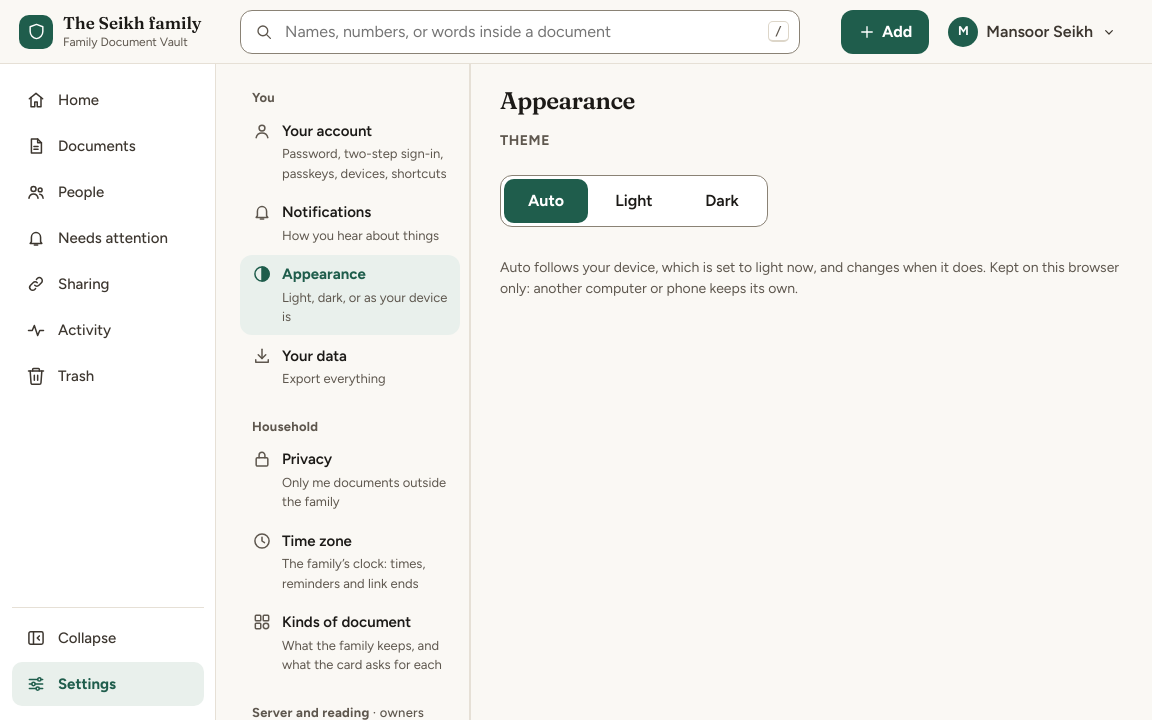
Scenario: the name menu’s quick switch › and Settings → Appearance says the same choice
The width and height of the screenshot is (1152, 720).
Expected: the heading "Appearance" is shown, [500,86,635,115]
Click the button with aria-label "Your account: Mansoor Seikh".
click(1035, 32)  # box [941,10,1128,54]
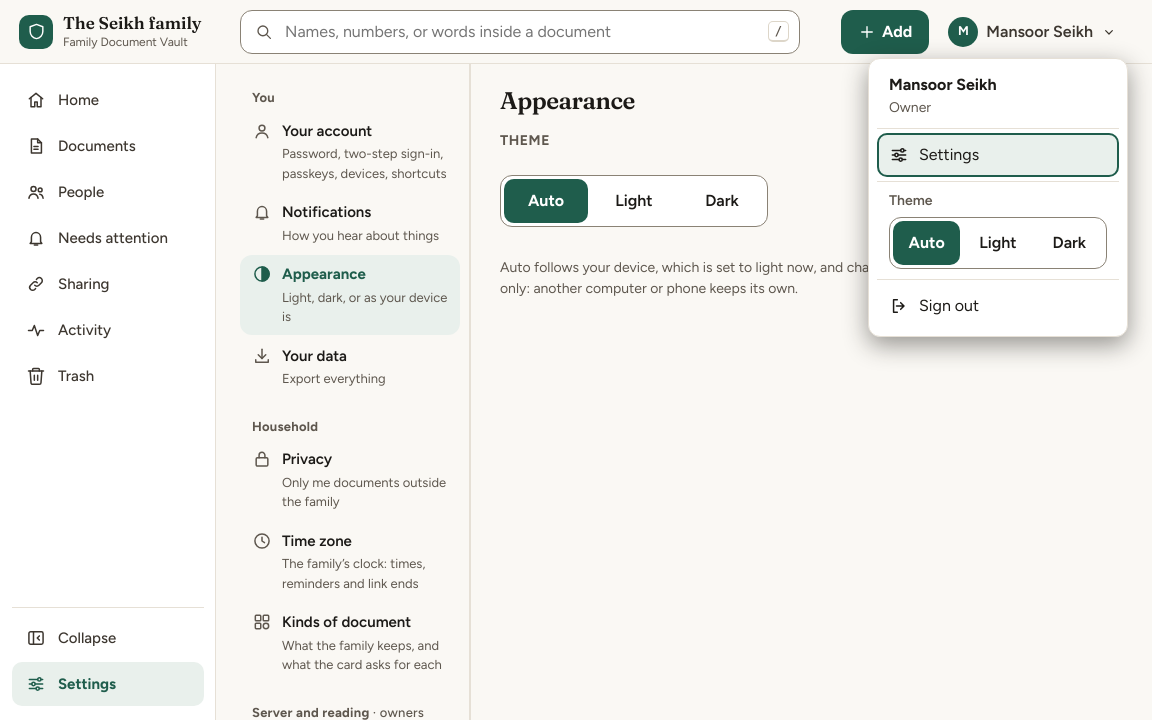
Click the menu item "Dark".
click(1069, 242)  # box [1036,220,1103,264]
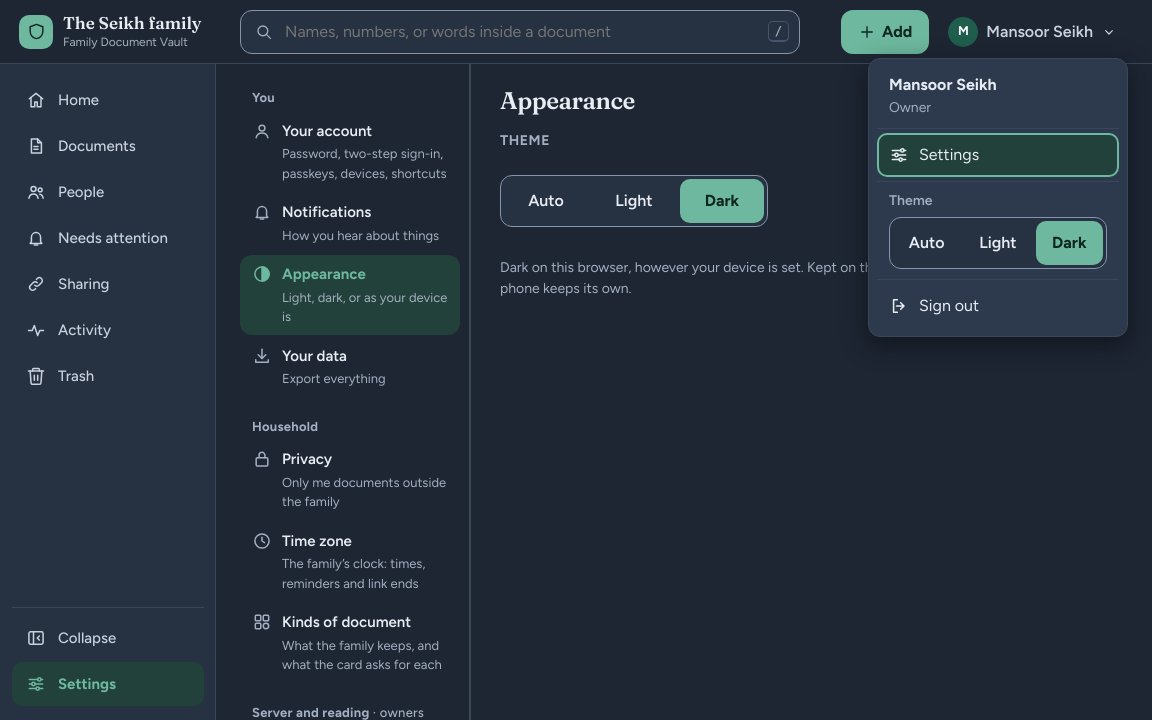
Result: the radio button labelled "Dark" is checked at [680,178,764,222]
